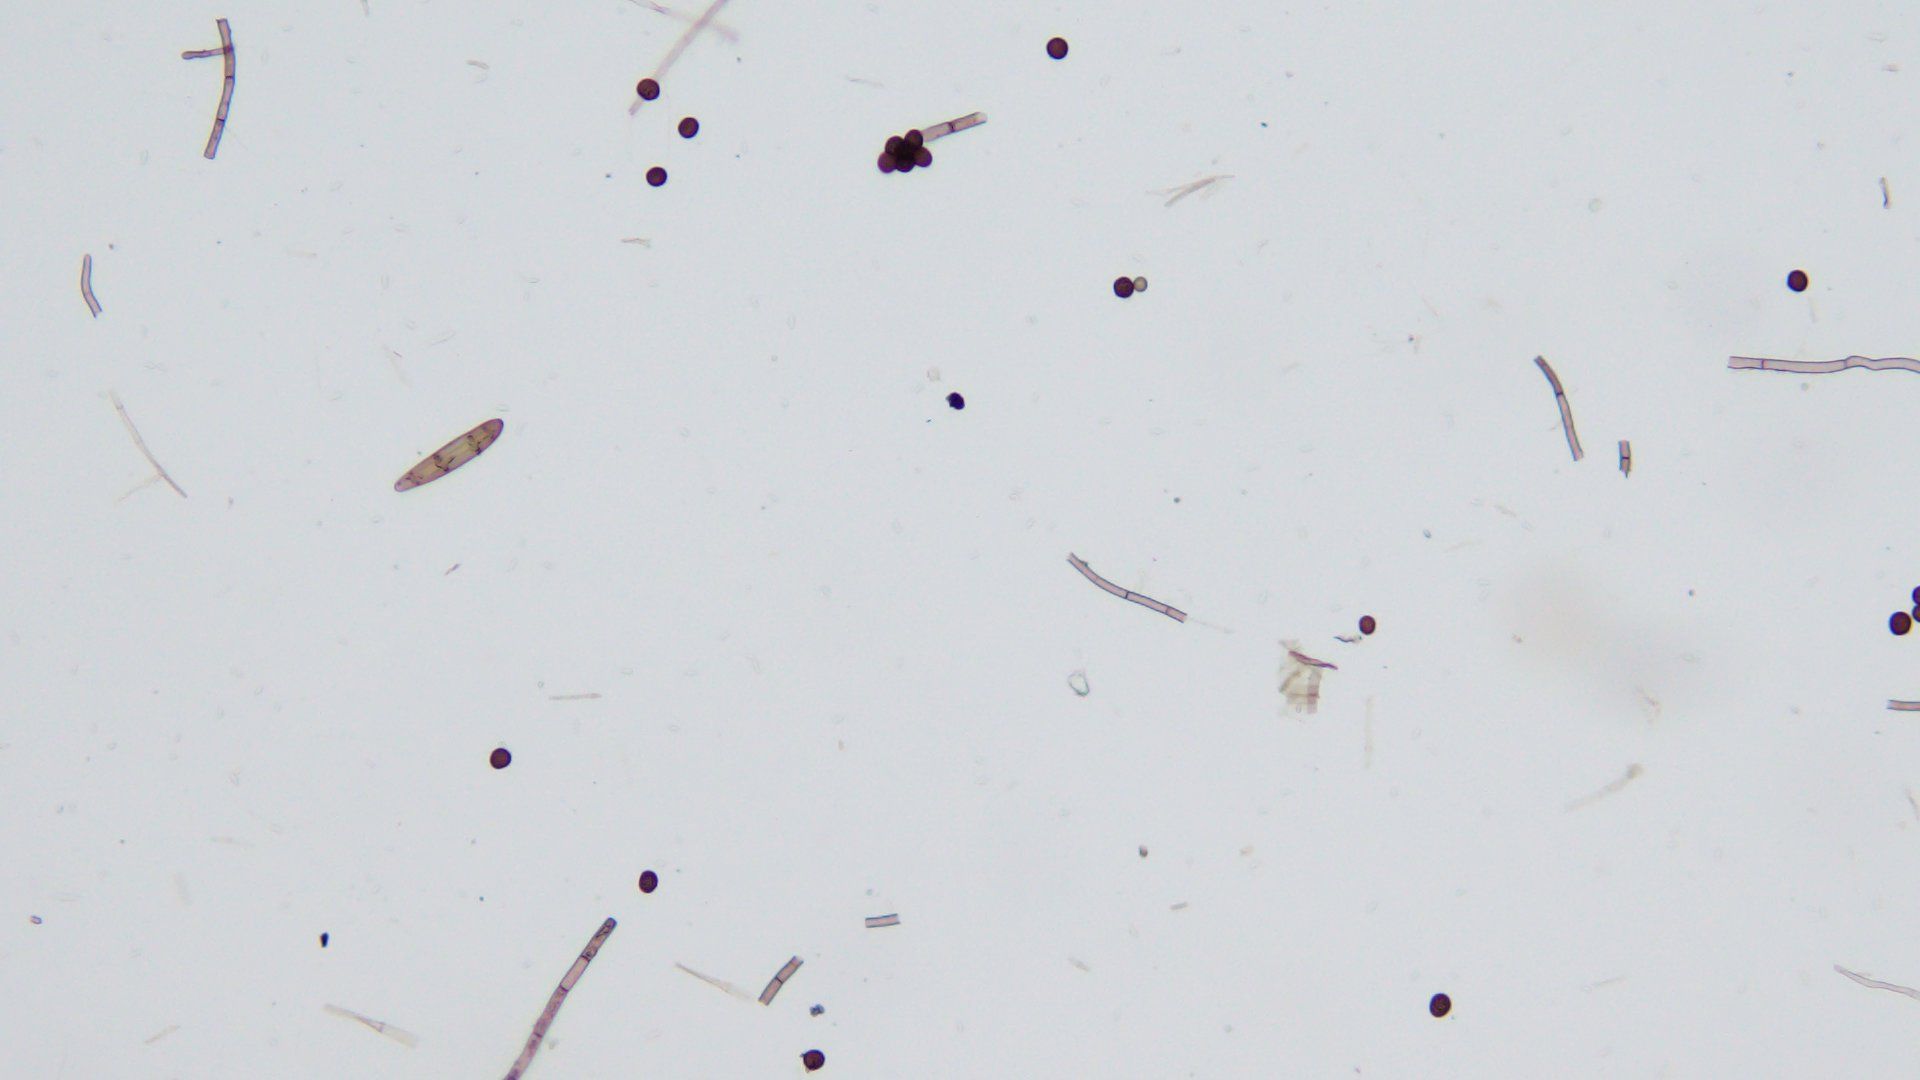dbb_spore: (393, 417, 505, 493)
shs_spore: (1428, 990, 1452, 1019), (676, 116, 702, 140), (1888, 611, 1912, 636), (636, 79, 662, 102), (1046, 37, 1069, 59), (1357, 615, 1379, 638), (1785, 269, 1809, 291), (800, 1050, 827, 1069), (489, 749, 512, 770), (894, 153, 915, 175), (881, 135, 905, 154), (644, 167, 669, 186), (638, 872, 659, 893), (1113, 278, 1135, 298), (913, 148, 934, 167), (905, 131, 924, 149), (876, 156, 895, 171)
